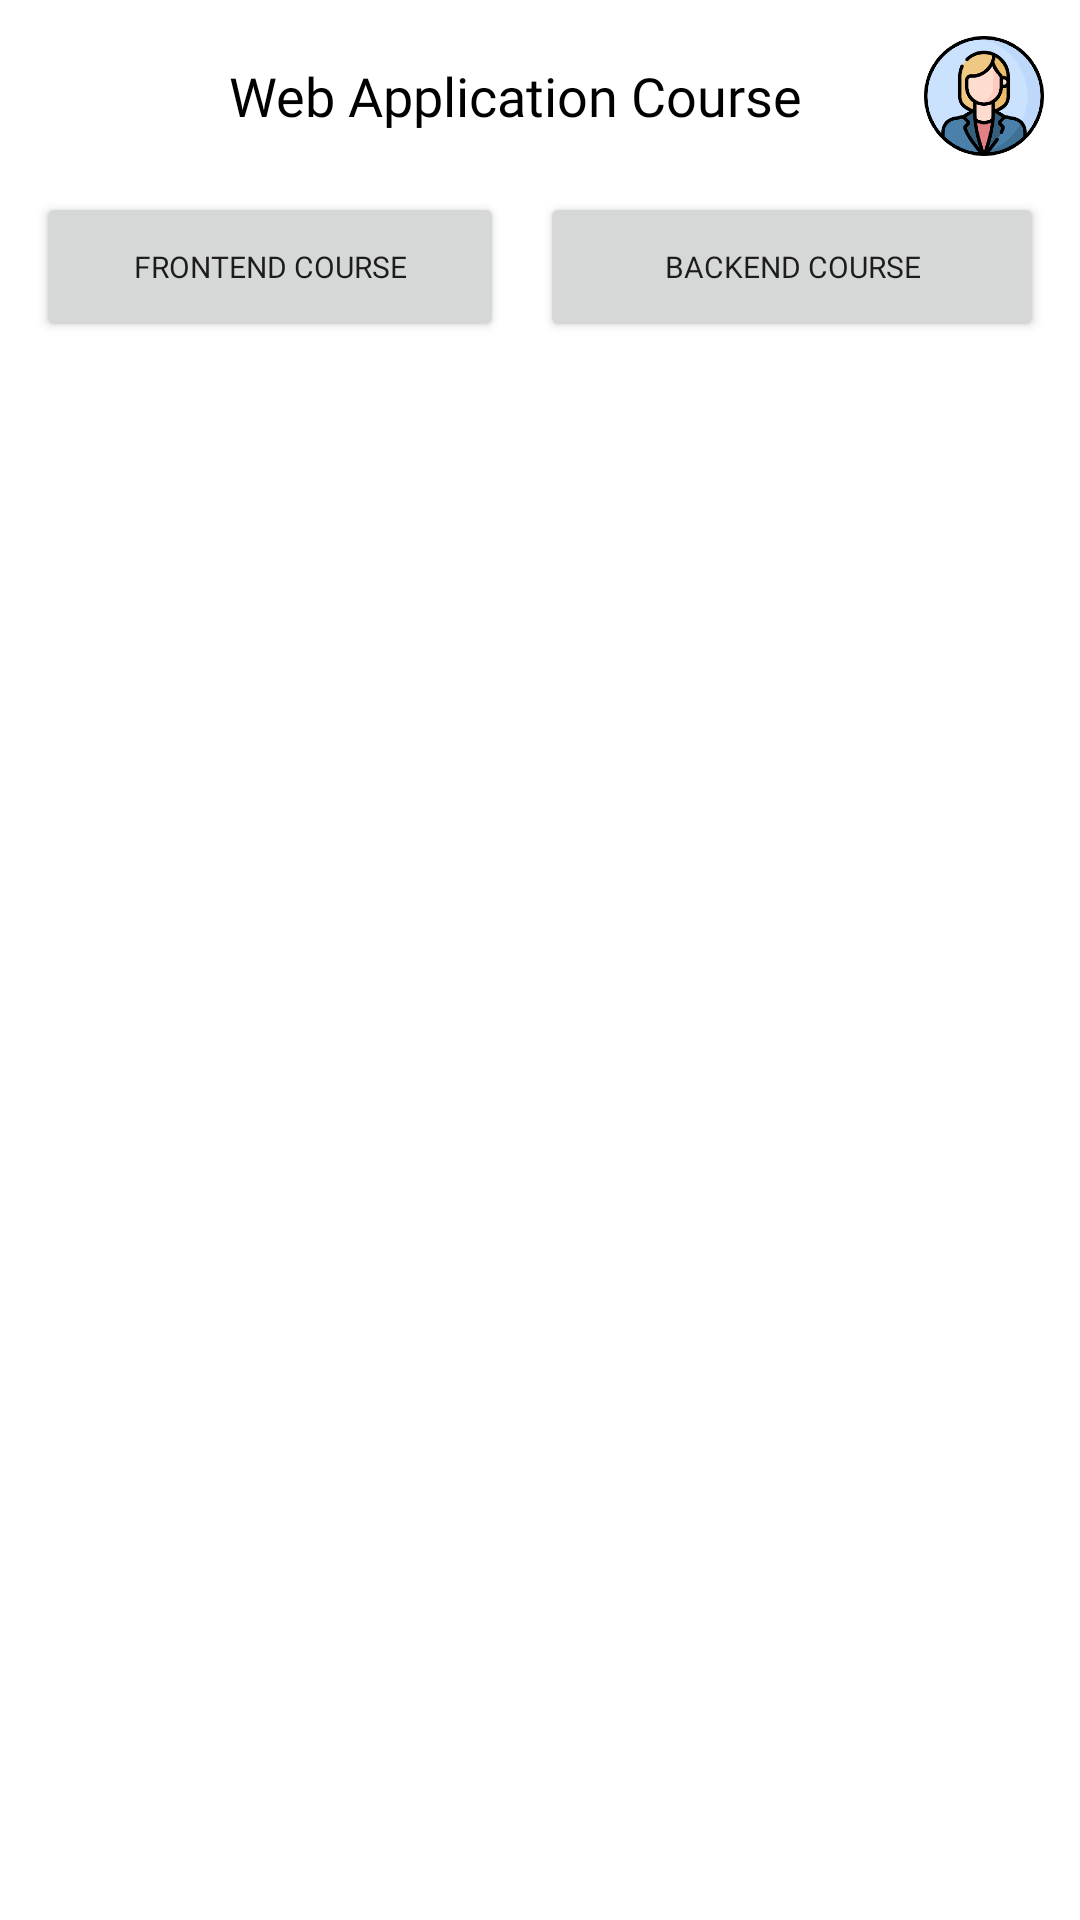

Point at icon controls on the screen. Image size 1080 x 1920, points as [x,y].
account profile: [984,96]
